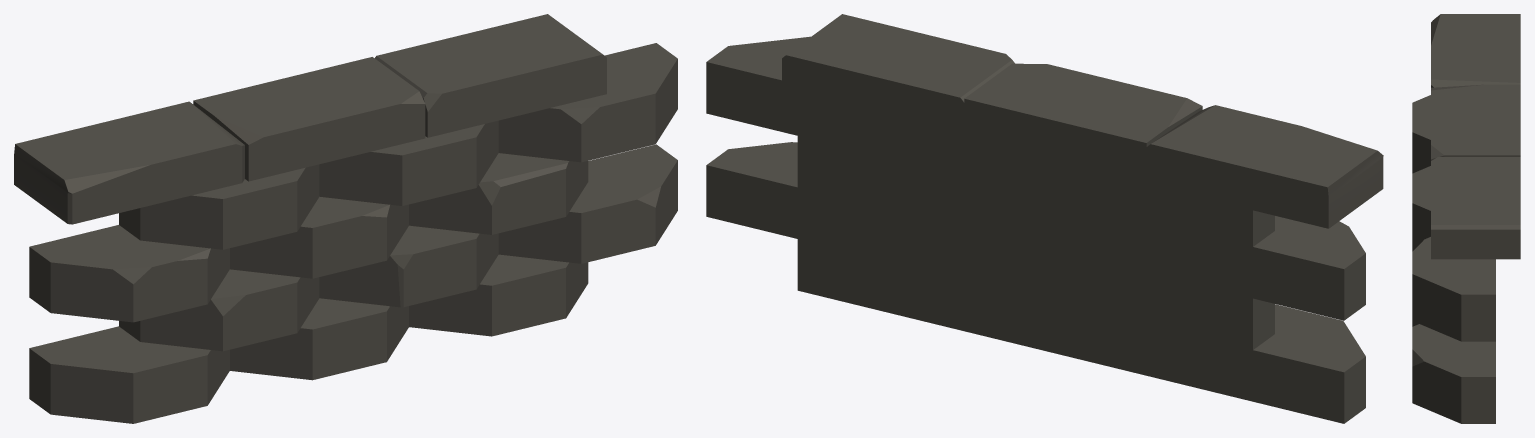
File: SM_Bld_Retainer_Wall_Stone_01.fbx
The picture shows the model from 3 angles, left to right: view 1: azimuth 30°, elevation 25°; view 2: azimuth 150°, elevation 25°; view 3: azimuth 270°, elevation 25°; orthographic projection. The views are drawn at different scales.
Parts seen in each view (by area): view 1: SM_Bld_Retainer_Wall_Stone_01; view 2: SM_Bld_Retainer_Wall_Stone_01; view 3: SM_Bld_Retainer_Wall_Stone_01.
Part boxes in pixels (x1,y1,x2,y2): SM_Bld_Retainer_Wall_Stone_01: (14,14,677,423); SM_Bld_Retainer_Wall_Stone_01: (706,14,1383,423); SM_Bld_Retainer_Wall_Stone_01: (1412,14,1520,423).
Size of the model in its own units: 162 by 60 by 29.87.
